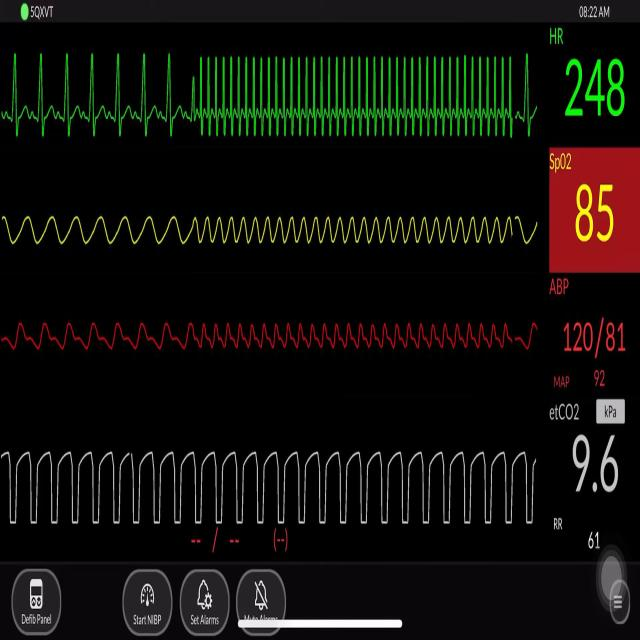danger: (193, 42, 519, 152)
